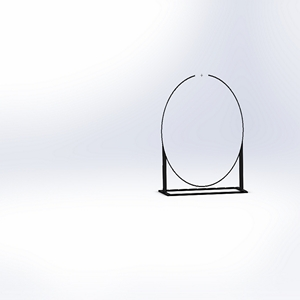circle: (158, 70, 248, 196)
